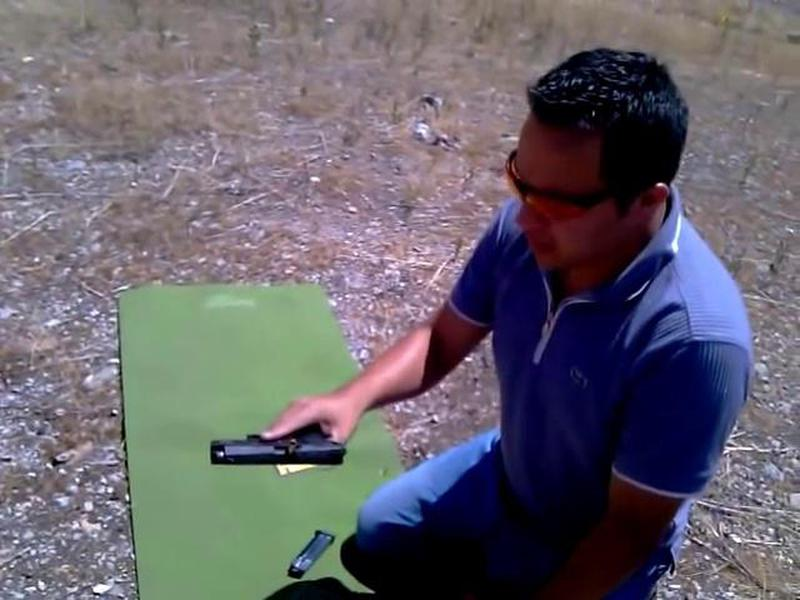Pistola: (190, 401, 358, 506)
